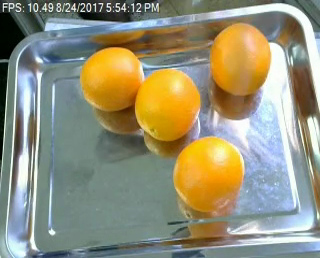Orange: (172, 135, 245, 211), (135, 69, 201, 142), (208, 22, 272, 95), (79, 47, 144, 111)
